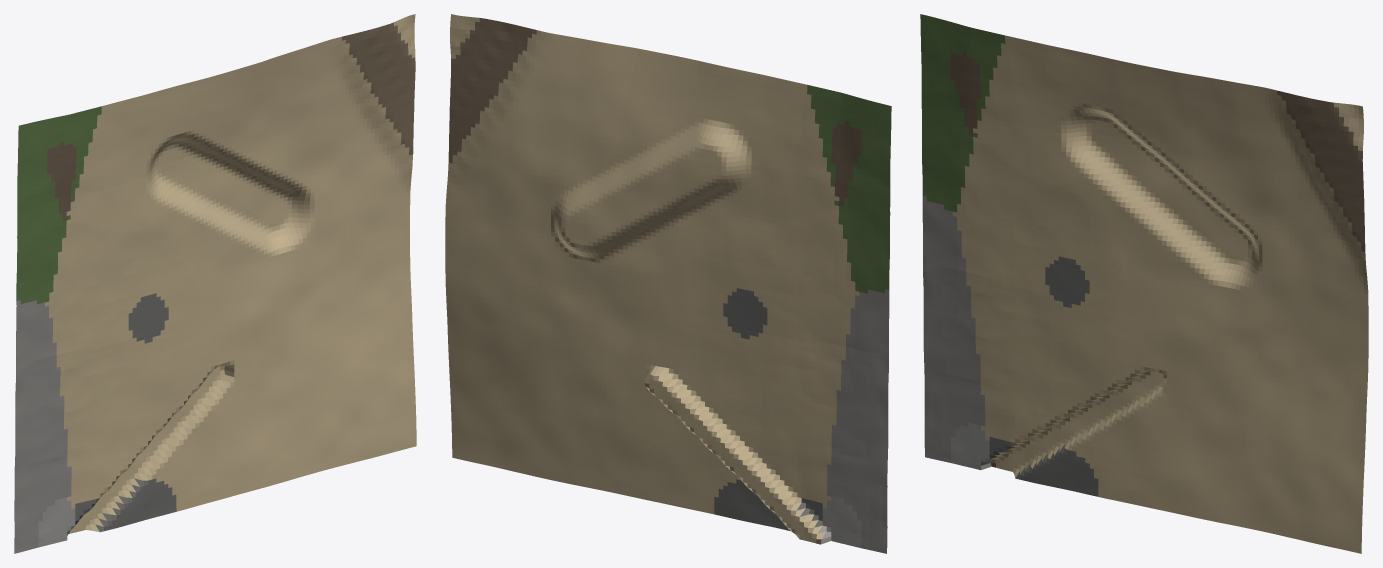
Rendered from SARM_SAR_Terrain_04_03.glb.
The picture shows the model from 3 angles, left to right: view 1: azimuth 30°, elevation 25°; view 2: azimuth 150°, elevation 25°; view 3: azimuth 330°, elevation 25°; orthographic projection. The views are drawn at different scales.
Parts seen in each view (by area): view 1: SAR_Terrain_04_03.001; view 2: SAR_Terrain_04_03.001; view 3: SAR_Terrain_04_03.001.
Boxes of the visible parts, box(x1,y1,x2,y2) form: SAR_Terrain_04_03.001: box(14, 14, 416, 553); SAR_Terrain_04_03.001: box(445, 14, 891, 553); SAR_Terrain_04_03.001: box(920, 14, 1368, 553).
Bounding box in the file's own units: 50 × 50 × 5.26.
